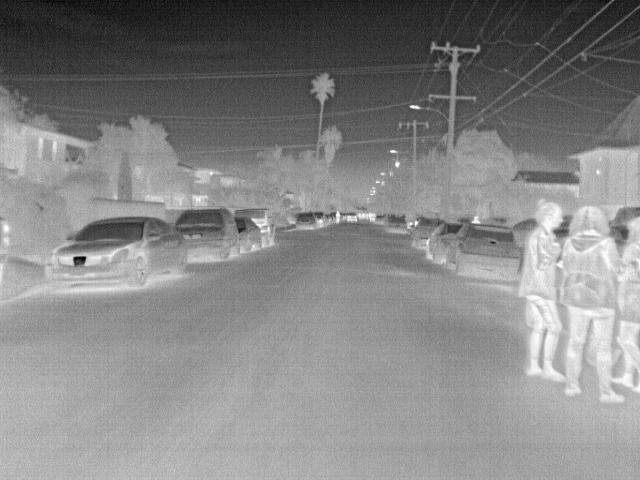car: (44, 214, 187, 294), (447, 223, 519, 284), (175, 208, 241, 261), (427, 222, 465, 266), (240, 208, 277, 248), (233, 214, 263, 253), (412, 218, 445, 250), (384, 215, 411, 234), (293, 213, 317, 232), (312, 211, 328, 228), (344, 211, 358, 225)
person: (559, 204, 625, 404), (521, 199, 568, 382), (611, 211, 639, 393), (469, 214, 481, 224), (334, 210, 341, 224)
